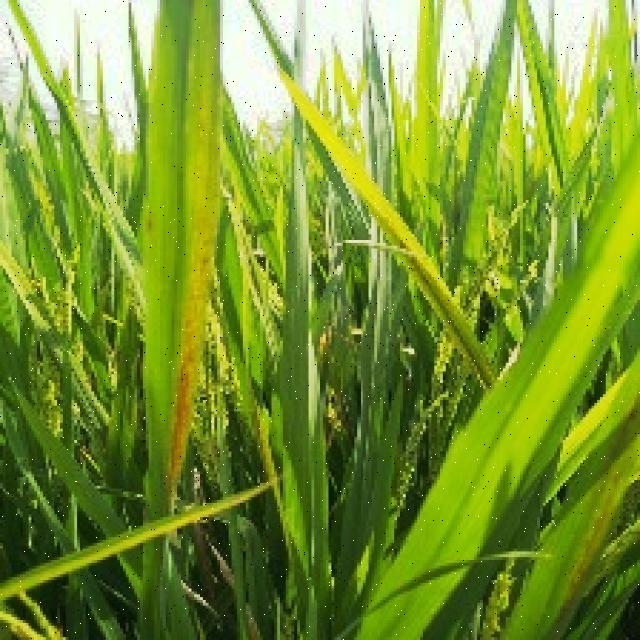health: (356, 0, 640, 640)
